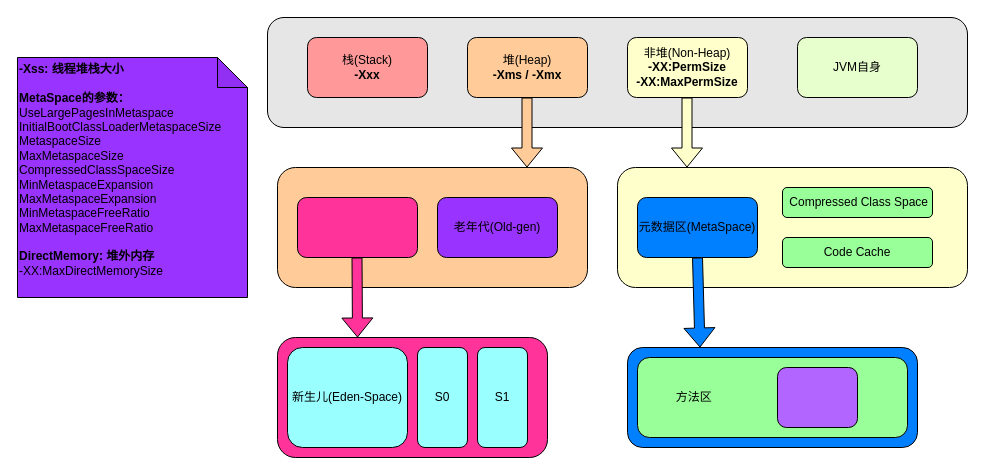
Image size: 985x475. Some labels were removed from this diagram. The centre of each missing label's shape, as x and y in pixels:
常量池: the point at 817,397
年轻代(Young-gen) -Xmn: the point at 357,227
